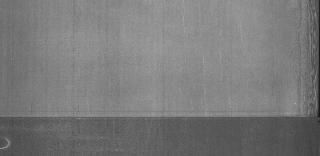welding line: (2, 110, 320, 128)
